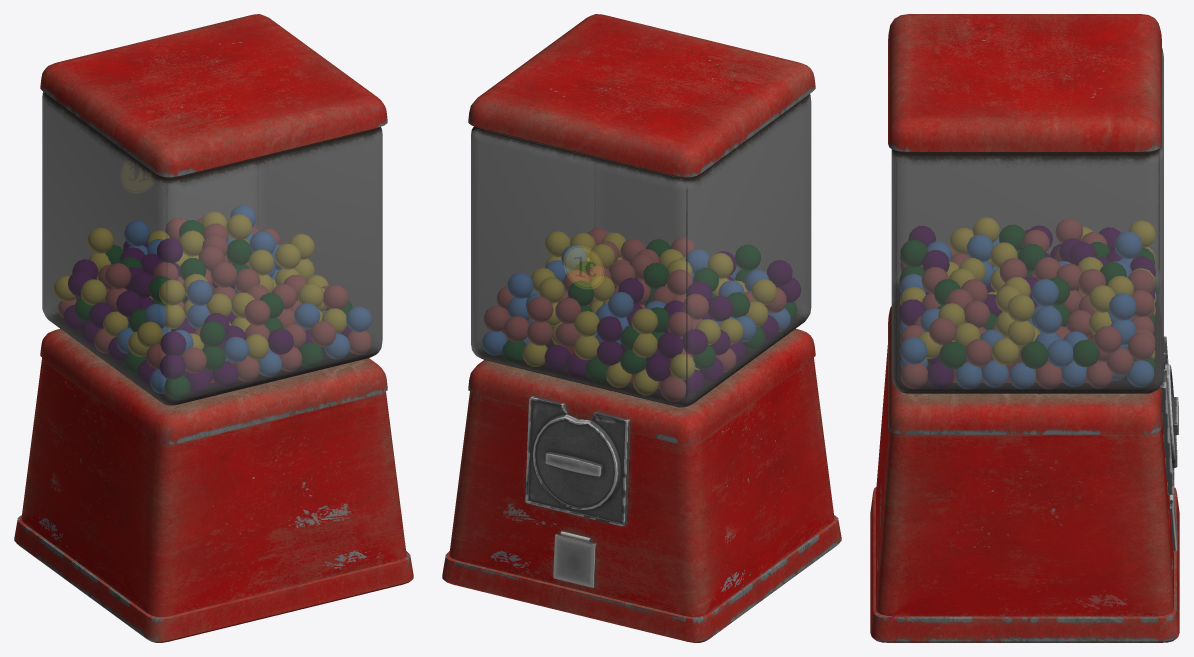
The model's file is model_old.glb.
The picture shows the model from 3 angles, left to right: view 1: azimuth 30°, elevation 25°; view 2: azimuth 150°, elevation 25°; view 3: azimuth 270°, elevation 25°; orthographic projection. The views are drawn at different scales.
Parts seen in each view (by area): view 1: SM_CANDYAUTOMAT; view 2: SM_CANDYAUTOMAT; view 3: SM_CANDYAUTOMAT.
Boxes of the visible parts, x1,y1,x2,y2 form: SM_CANDYAUTOMAT: [14, 14, 413, 642]; SM_CANDYAUTOMAT: [442, 14, 841, 642]; SM_CANDYAUTOMAT: [870, 14, 1179, 642].
Size of the model in its own units: 35.8 by 61.81 by 34.04.
Materials: 2 (2 with a texture image).
